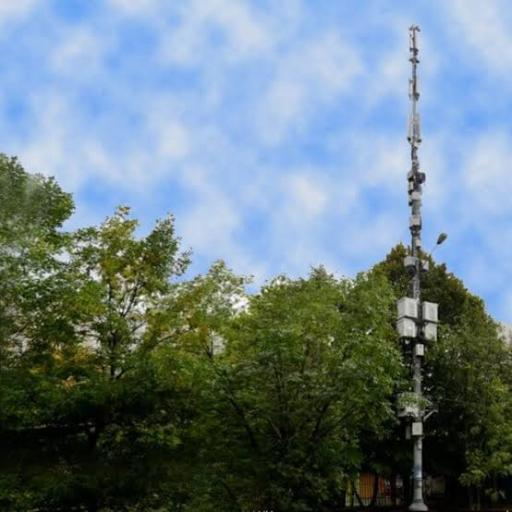odn_pole: (396, 24, 448, 511)
